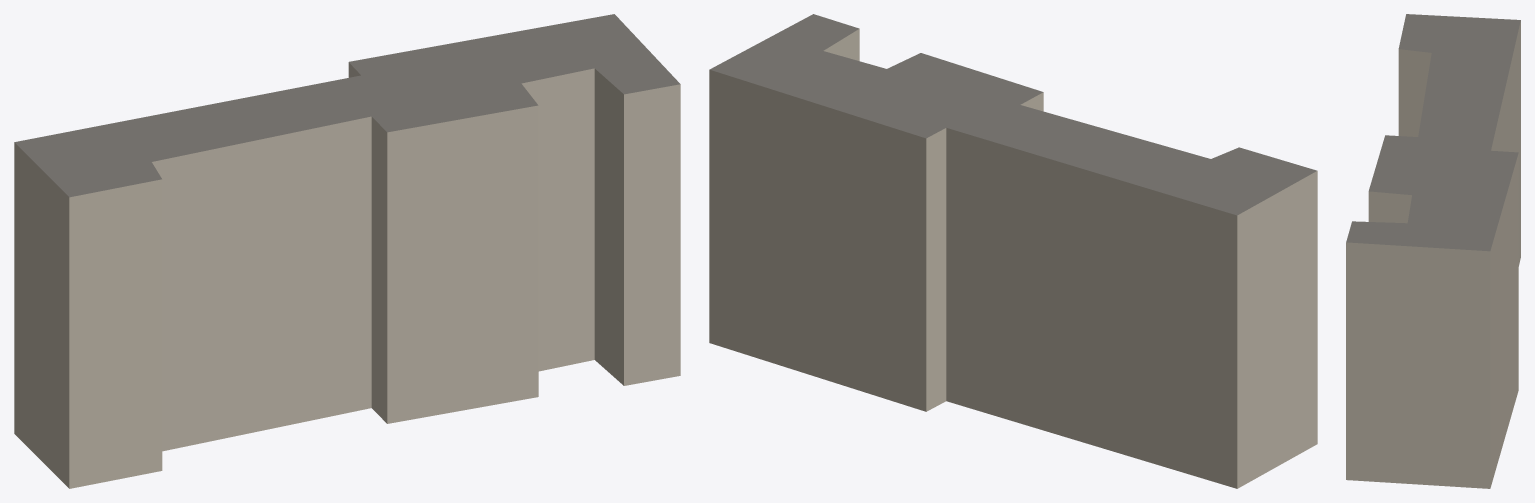
3 views of the same model, side by side, from view 1: azimuth 30°, elevation 25°; view 2: azimuth 150°, elevation 25°; view 3: azimuth 270°, elevation 25° (orthographic). The views are drawn at different scales.
Visible parts, largest first — view 1: HP-w573559188; view 2: HP-w573559188; view 3: HP-w573559188.
Boxes of the visible parts, left/top/right/bottom form: HP-w573559188: left=14, top=14, right=680, bottom=488; HP-w573559188: left=709, top=14, right=1317, bottom=488; HP-w573559188: left=1346, top=14, right=1520, bottom=488.
Bounding box in the file's own units: 38.55 × 18 × 12.
